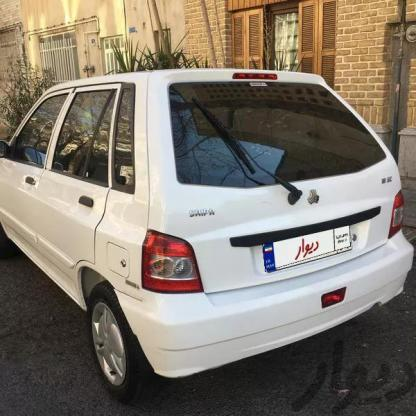Car: (0, 70, 403, 408)
